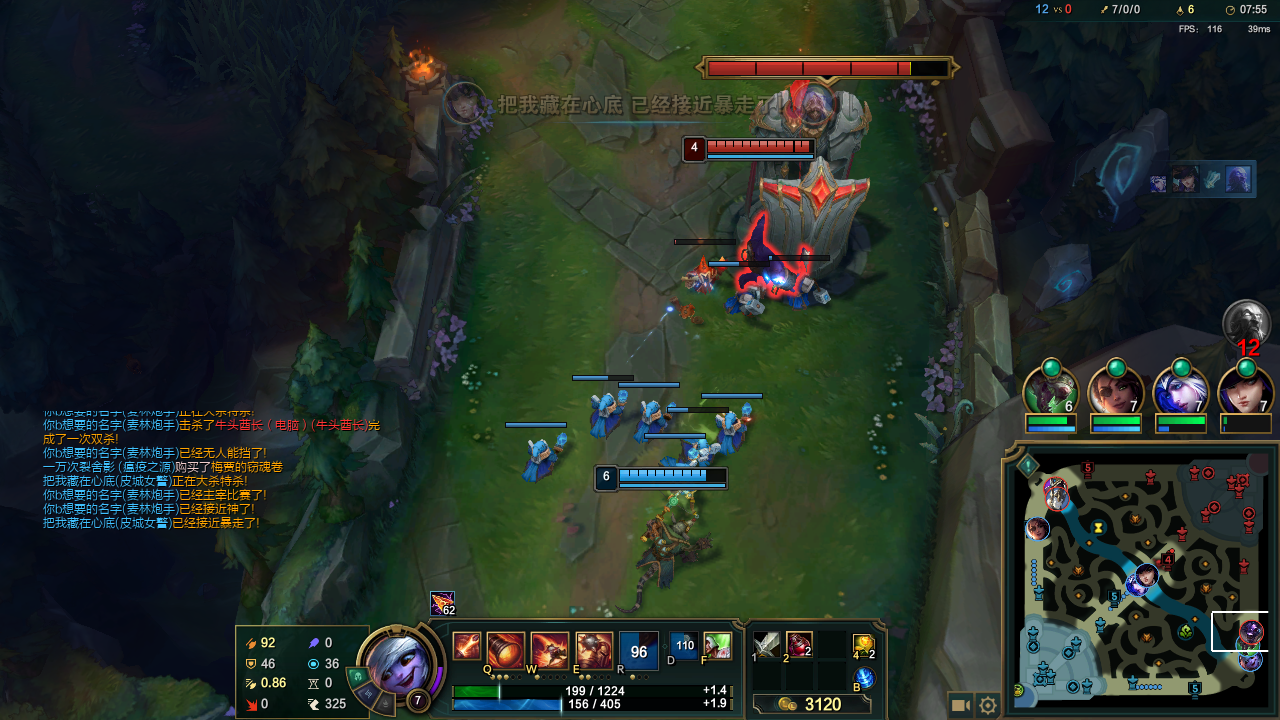DFFYT: (694, 50, 879, 260)
DFYX: (701, 141, 809, 156)
WFXB: (514, 435, 574, 482), (629, 393, 677, 447), (783, 275, 840, 314), (584, 388, 627, 437), (717, 401, 758, 448), (716, 276, 764, 316), (685, 440, 717, 467)
Yita: (1186, 675, 1206, 698)
